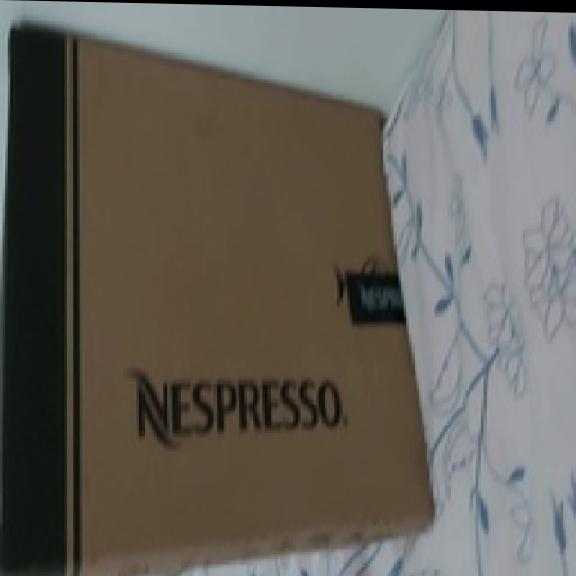Kertas: (3, 29, 429, 571)
